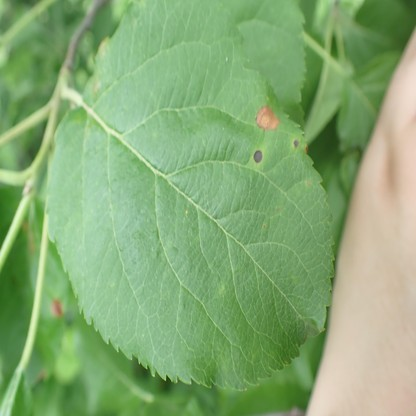frogeye_leaf_spot: (255, 104, 280, 131), (50, 299, 62, 317), (253, 150, 263, 163), (293, 139, 299, 148)
